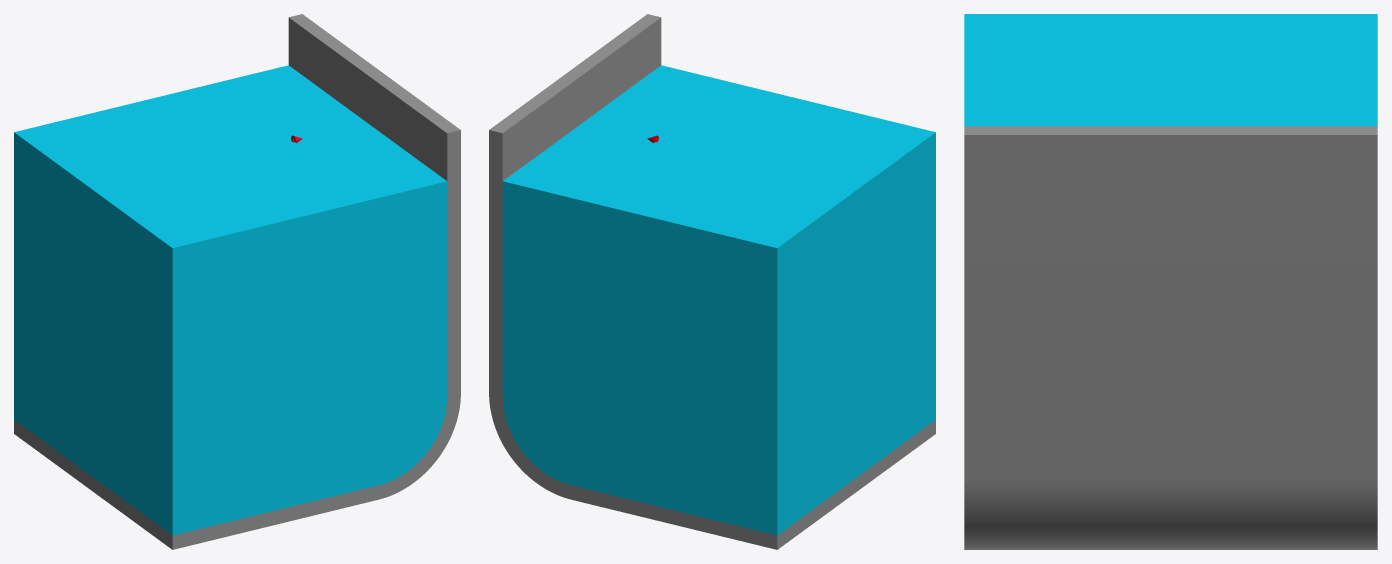
Rendered from pressure_prism_curved.glb.
The picture shows the model from 3 angles, left to right: view 1: azimuth 30°, elevation 25°; view 2: azimuth 150°, elevation 25°; view 3: azimuth 270°, elevation 25°; orthographic projection. The views are drawn at different scales.
Parts seen in each view (by area): view 1: water, wall; view 2: water, wall; view 3: wall, water.
Boxes of the visible parts, left/top/right/bottom form: water: left=14, top=65, right=447, bottom=535; wall: left=14, top=14, right=460, bottom=549; water: left=502, top=65, right=935, bottom=535; wall: left=489, top=14, right=935, bottom=549; wall: left=964, top=126, right=1377, bottom=549; water: left=964, top=14, right=1377, bottom=126.
Size of the model in its own units: 6.3 by 7.3 by 6.
